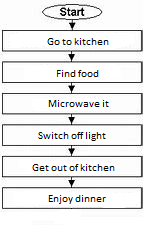arrow: (67, 17, 78, 30), (66, 50, 77, 62), (67, 113, 77, 124), (67, 144, 77, 155), (66, 177, 76, 188), (67, 82, 76, 94)
process: (1, 59, 144, 84), (1, 154, 145, 178), (1, 185, 145, 209), (1, 92, 144, 116), (1, 123, 144, 147), (1, 29, 144, 52)
terminator: (41, 3, 105, 21)
text: (36, 131, 107, 142), (30, 162, 115, 171), (47, 193, 108, 204), (45, 36, 109, 46), (47, 98, 110, 107), (55, 68, 99, 78), (59, 5, 87, 17)
